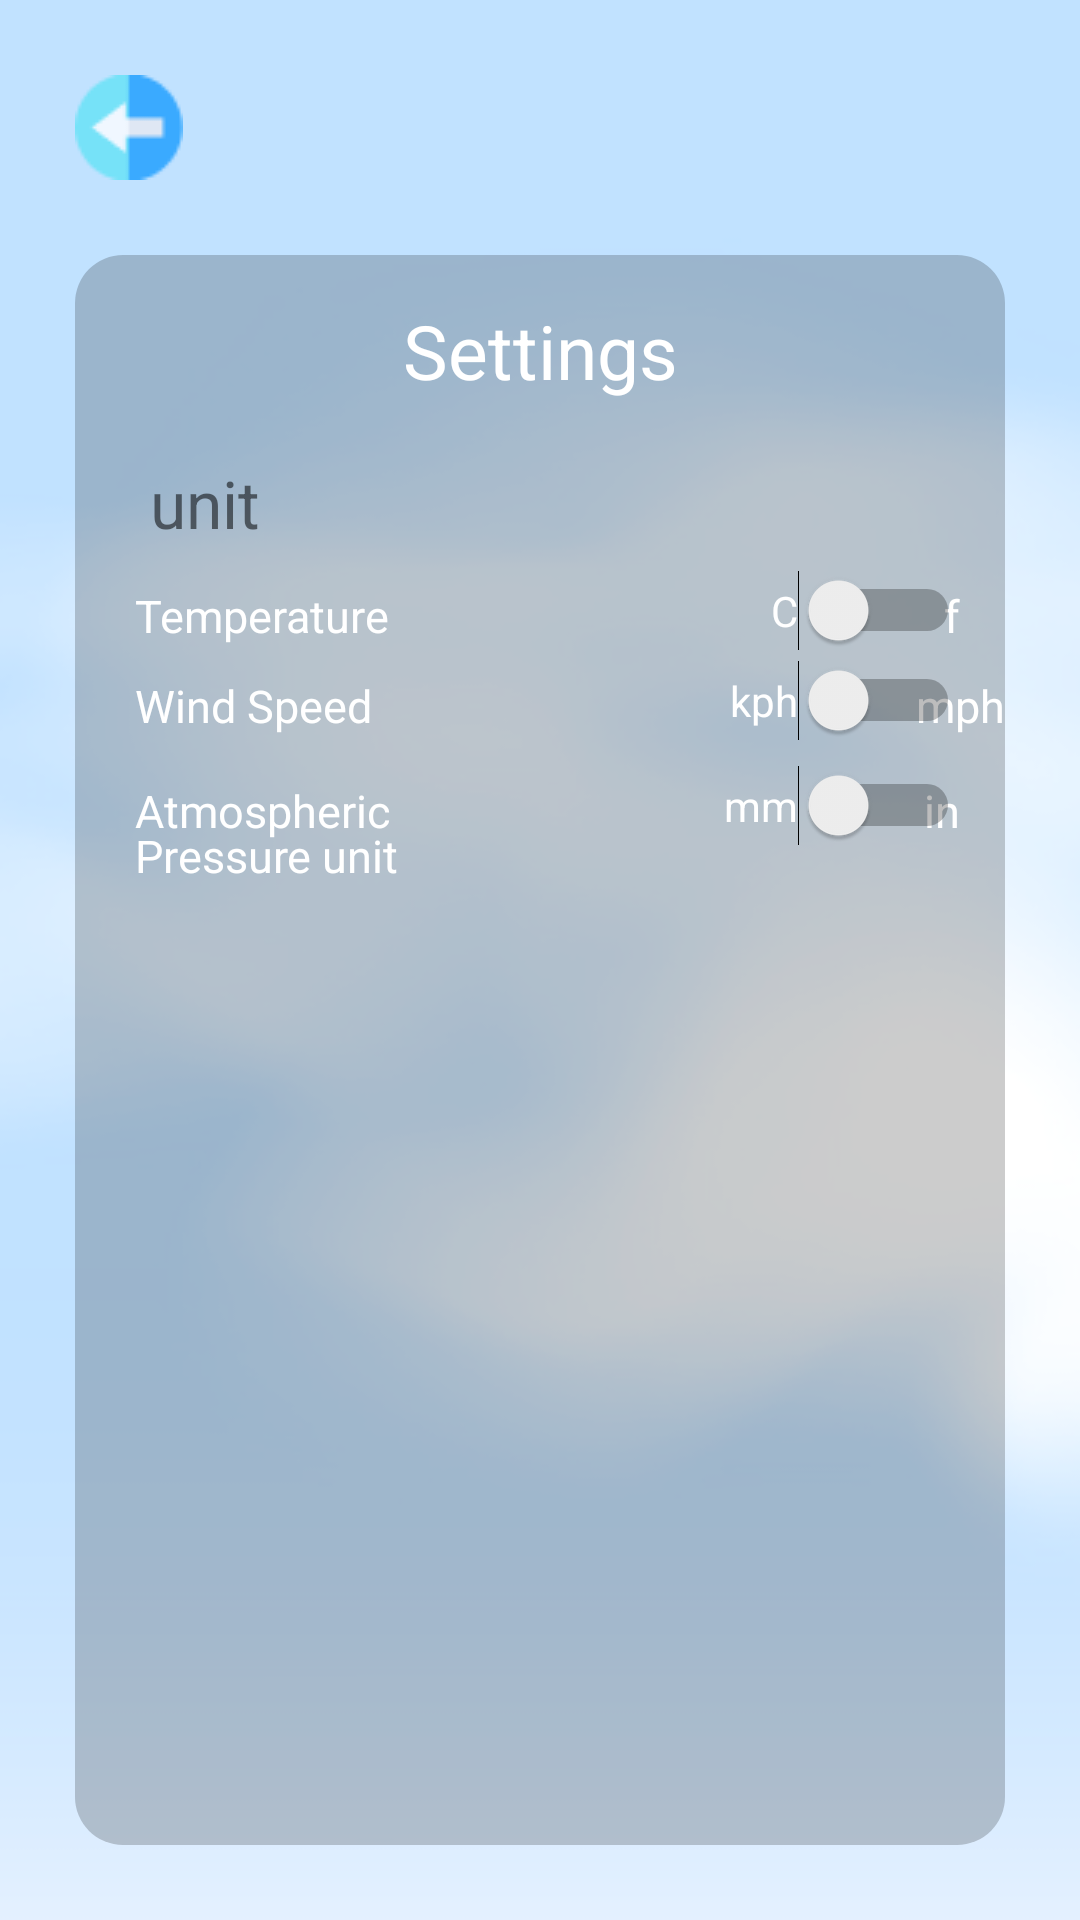

Where icons sit on this 1080*1920 app screen, as [x1=x1, y1=y1, x2=x2, y2=y2]:
goback: [x1=75, y1=75, x2=183, y2=180]
